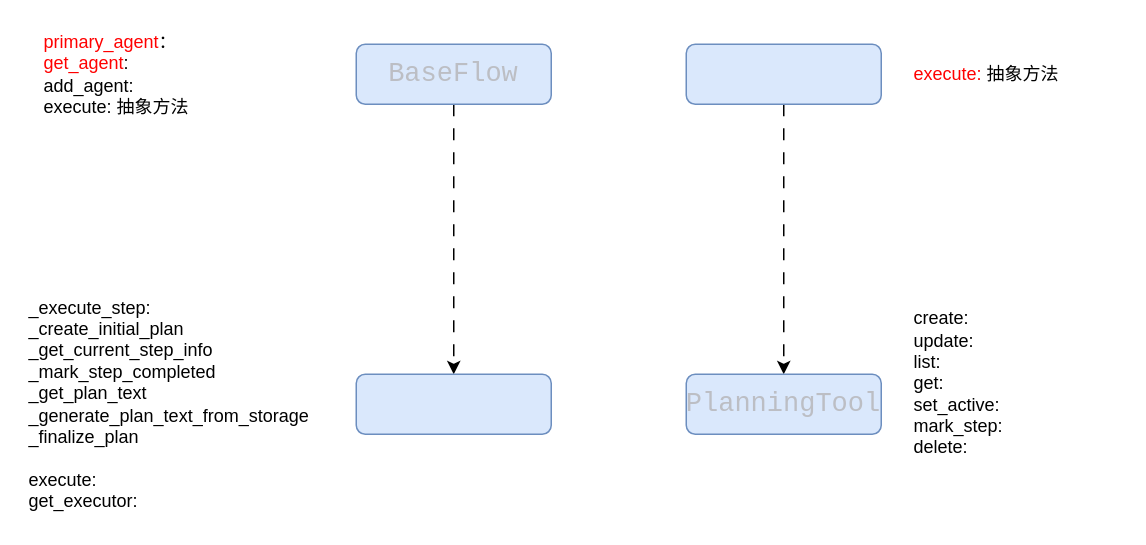
The diagram is 1146 pixels wide and 545 high, and some of its shapes have lost their labels. Here are the shapes that lost their labels. From the top down, the box of each, then its label:
(685, 43, 881, 104): BaseTool
(355, 373, 551, 434): PlanningFlow
